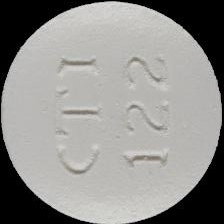60429-721: (0, 0, 224, 224)
